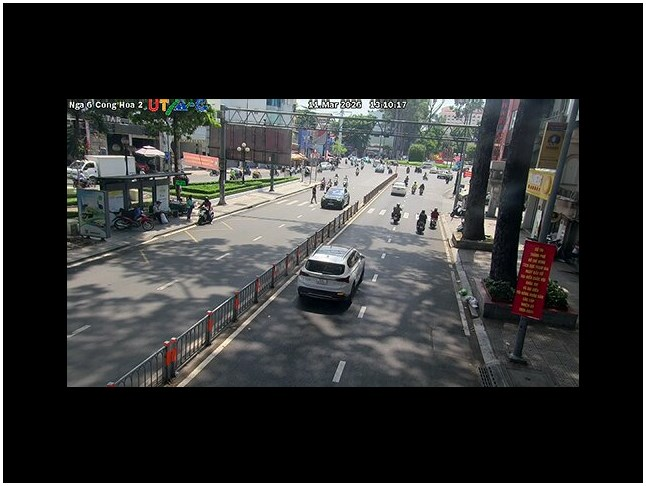car: (295, 243, 366, 305), (321, 186, 349, 210), (391, 185, 406, 197)
motorbike: (111, 205, 150, 230), (197, 199, 214, 226)
